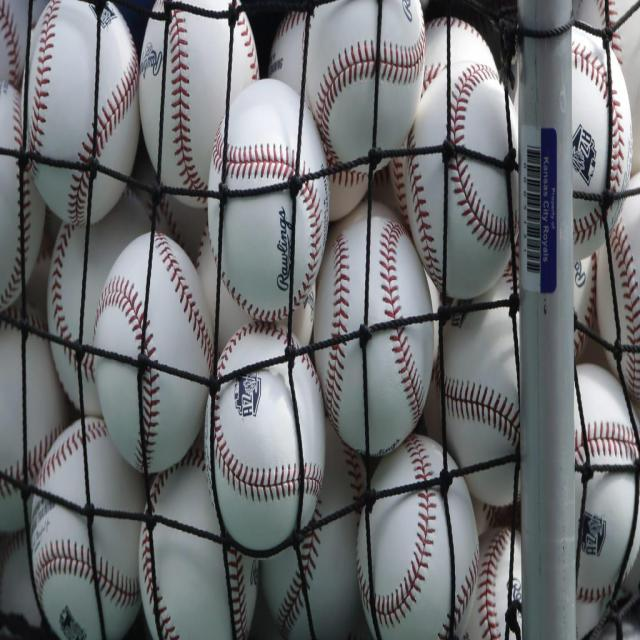baseball: (316, 196, 434, 448), (204, 78, 330, 310), (96, 234, 214, 470), (208, 320, 324, 552), (406, 57, 517, 290), (28, 8, 138, 224), (361, 438, 476, 638), (35, 409, 142, 621), (138, 6, 253, 199), (436, 289, 522, 508), (306, 3, 422, 165), (138, 453, 237, 631), (566, 13, 629, 269), (571, 361, 626, 608)
